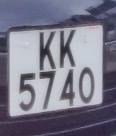0: (76, 65, 96, 107)
4: (58, 67, 79, 110)
5: (14, 68, 40, 119)
7: (37, 68, 60, 112)
K: (36, 26, 58, 73), (56, 26, 78, 70)
